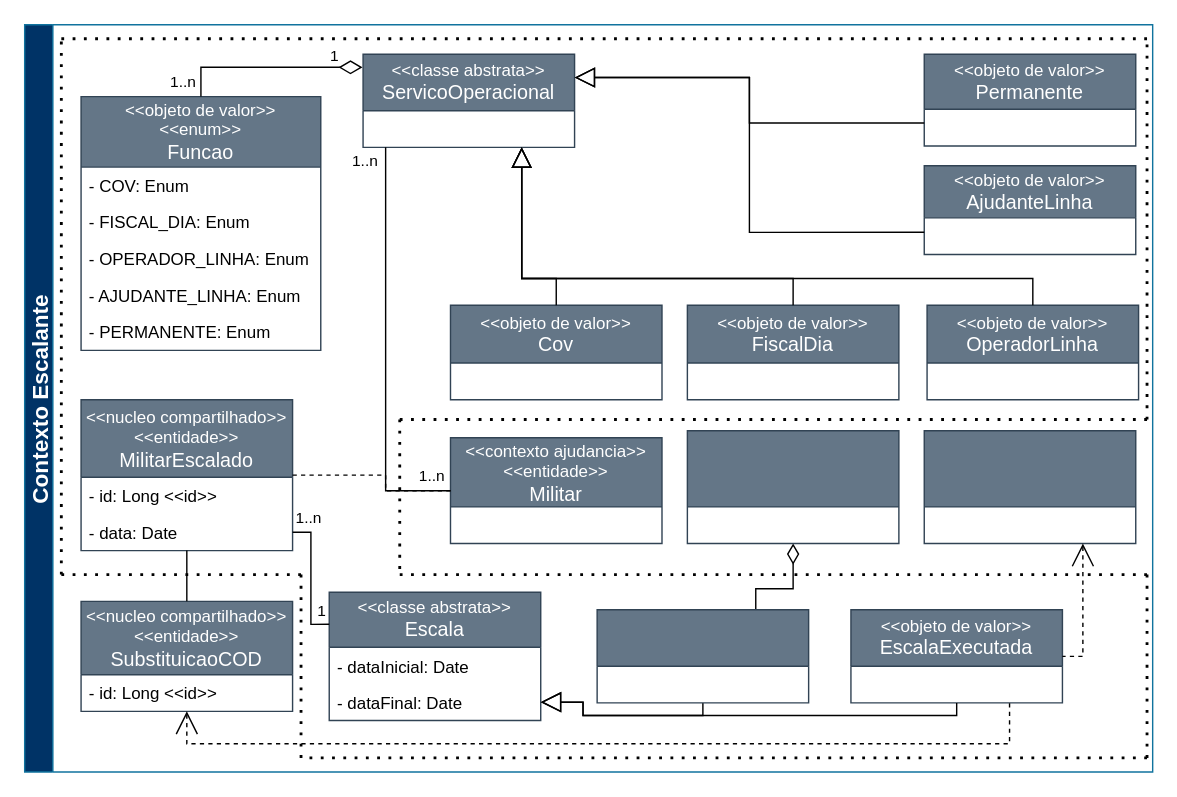
The diagram is 1177 pixels wide and 797 high, and some of its shapes have lost their labels. Each missing label, with the centre of its shape:
"<<contexto comando>> <<entidade>> AnaliseEscala" goes at pixel 792 486.
"<<contexto comando>> <<entidade>> AnalisePermuta" goes at pixel 1029 486.
"<<objeto de valor>> EscalaPrevista" goes at pixel 702 655.
